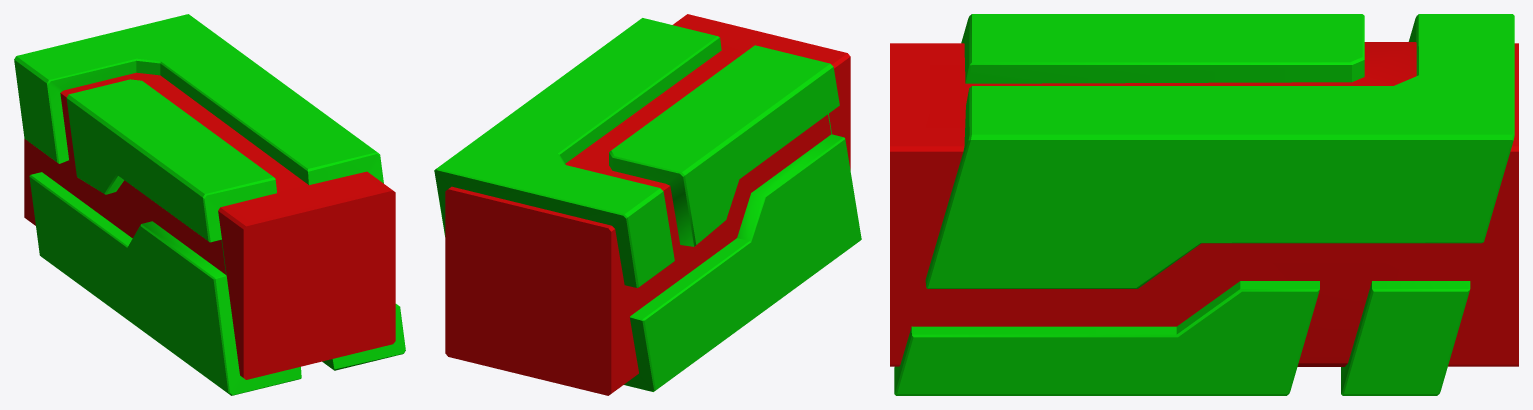
Rendered from MePilierNormal.FBX.
The picture shows the model from 3 angles, left to right: view 1: azimuth 30°, elevation 25°; view 2: azimuth 150°, elevation 25°; view 3: azimuth 270°, elevation 25°; orthographic projection. The views are drawn at different scales.
Parts seen in each view (by area): view 1: pilier; view 2: pilier; view 3: pilier.
Part boxes in pixels (x1,y1,x2,y2): pilier: [14, 14, 405, 395]; pilier: [434, 14, 861, 395]; pilier: [890, 14, 1518, 395].
Bounding box in the file's own units: 0.7 × 0.6881 × 1.5.
